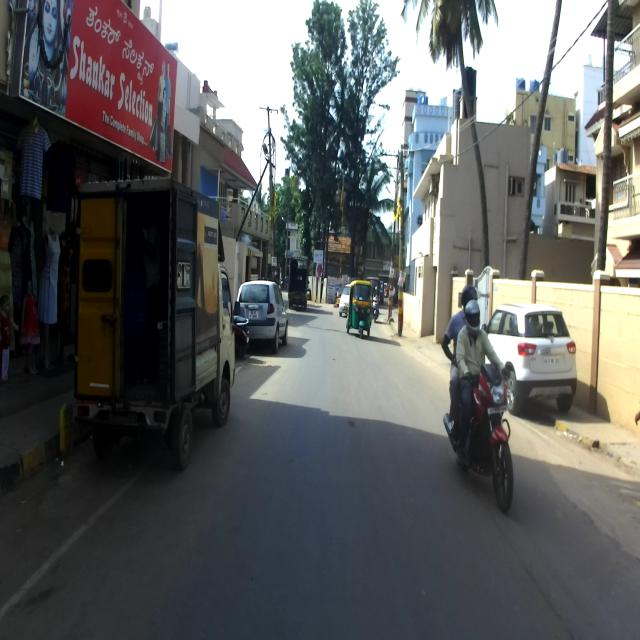car ahead at: (491, 307, 581, 412), (241, 277, 290, 365)
motorcycle ahead at: (438, 358, 518, 524)
truck ahead at: (72, 178, 240, 476)
